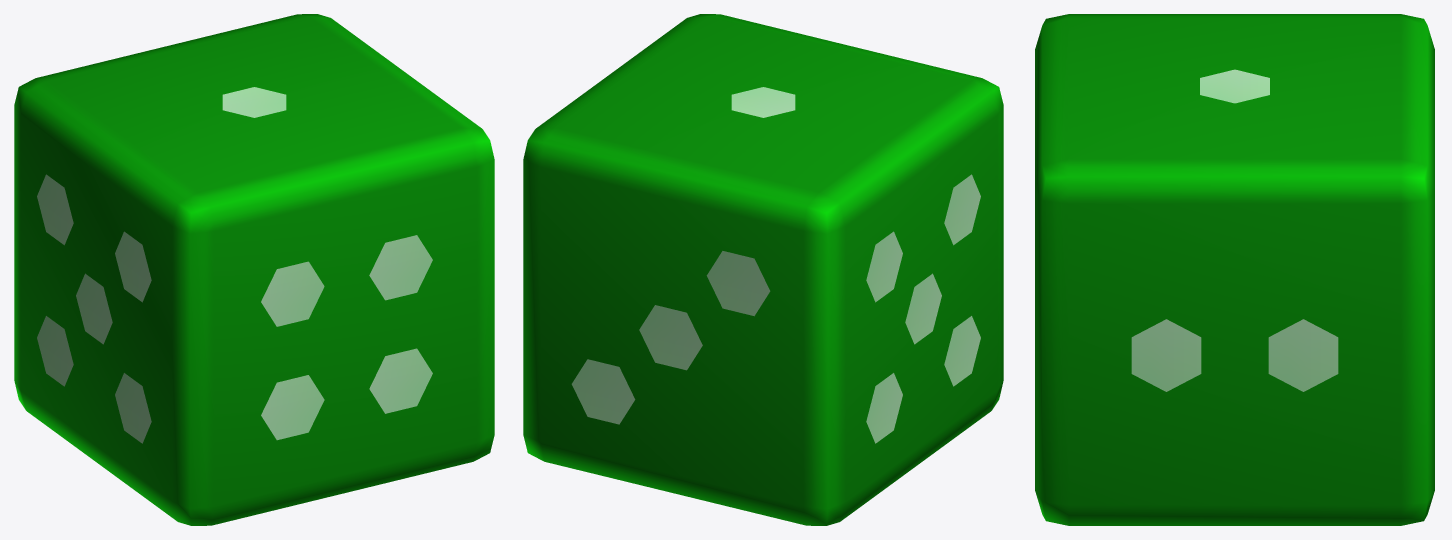
Rendered from dice.fbx.
The picture shows the model from 3 angles, left to right: view 1: azimuth 30°, elevation 25°; view 2: azimuth 150°, elevation 25°; view 3: azimuth 270°, elevation 25°; orthographic projection. The views are drawn at different scales.
Parts seen in each view (by area): view 1: dice; view 2: dice; view 3: dice.
Part boxes in pixels (<box>): dice: <box>14,14,494,525</box>; dice: <box>523,14,1003,525</box>; dice: <box>1035,14,1434,525</box>.
Bounding box in the file's own units: 8.13 × 8.13 × 8.13.
